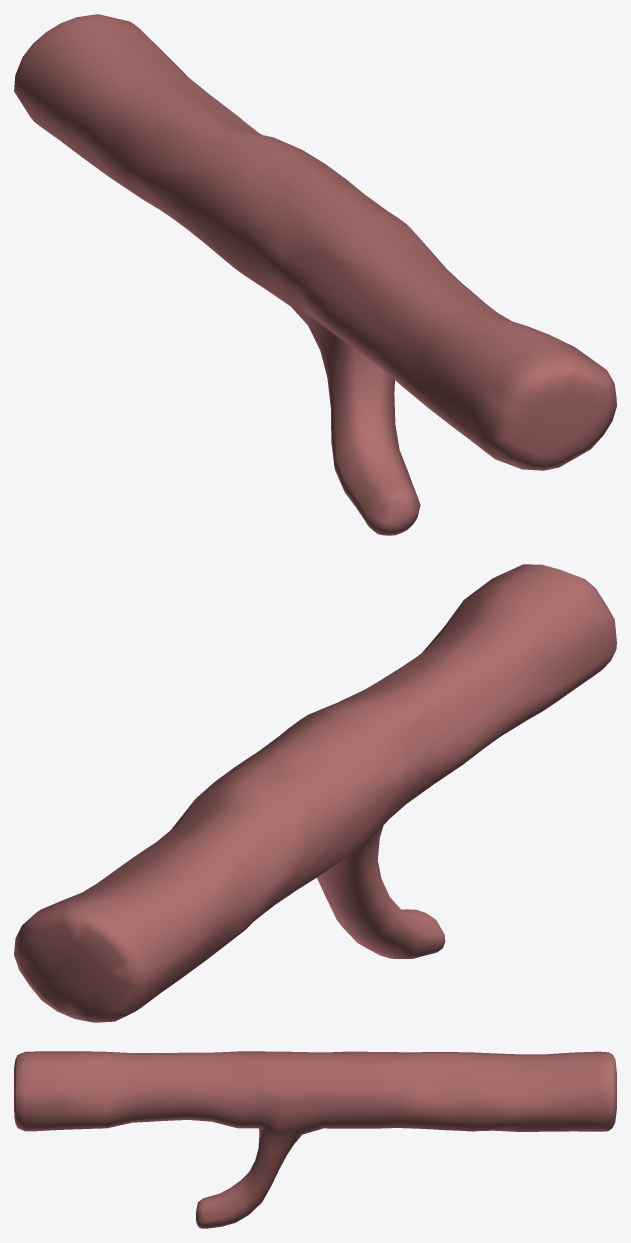
Rendered from branche_A_LP.fbx.
The picture shows the model from 3 angles, top to bottom: view 1: azimuth 30°, elevation 25°; view 2: azimuth 150°, elevation 25°; view 3: azimuth 270°, elevation 25°; orthographic projection. The views are drawn at different scales.
Parts seen in each view (by area): view 1: branche_A_LP; view 2: branche_A_LP; view 3: branche_A_LP.
Part boxes in pixels (x1,y1,x2,y2): branche_A_LP: (14,14,616,535); branche_A_LP: (14,564,616,1022); branche_A_LP: (14,1051,616,1228).
Size of the model in its own units: 131 by 254 by 804.
